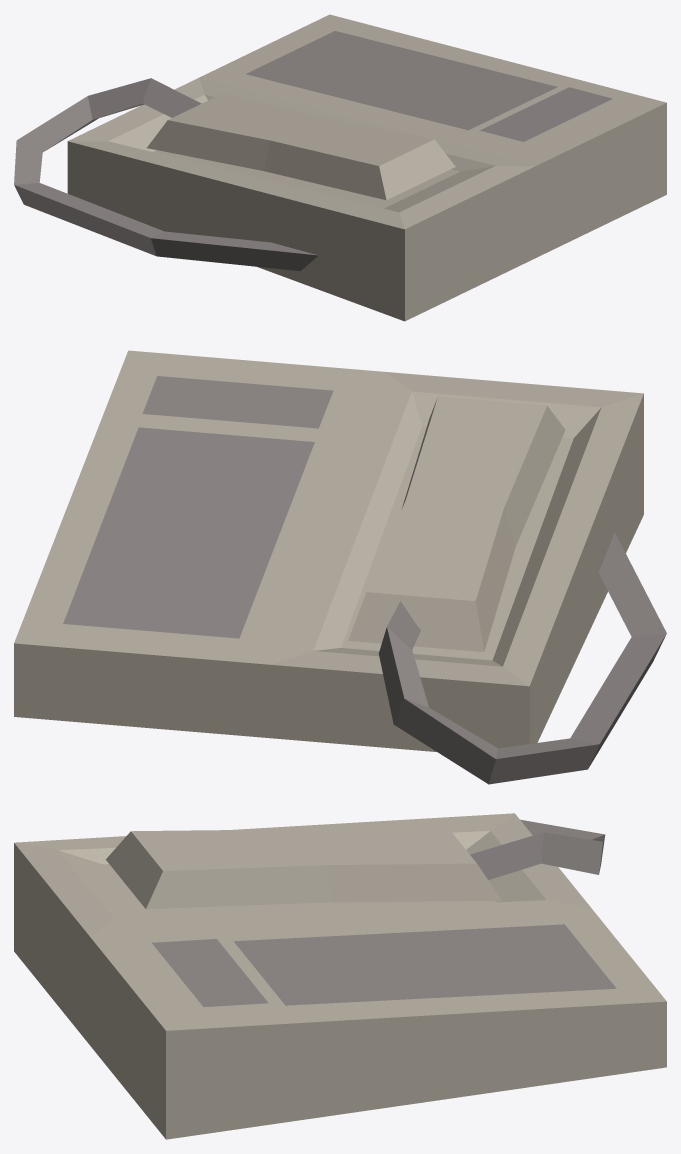
The model's file is SM_Tel_01.fbx.
3 renders of one model, top to bottom at view 1: azimuth 30°, elevation 25°; view 2: azimuth 150°, elevation 25°; view 3: azimuth 270°, elevation 25°, orthographic. The views are drawn at different scales.
Parts seen in each view (by area): view 1: SM_Tel_01; view 2: SM_Tel_01; view 3: SM_Tel_01.
Boxes of the visible parts, bbox=[...] form: SM_Tel_01: bbox=[14, 14, 666, 321]; SM_Tel_01: bbox=[14, 350, 666, 784]; SM_Tel_01: bbox=[14, 813, 666, 1139].
Bounding box in the file's own units: 34.37 × 7.37 × 32.56.
